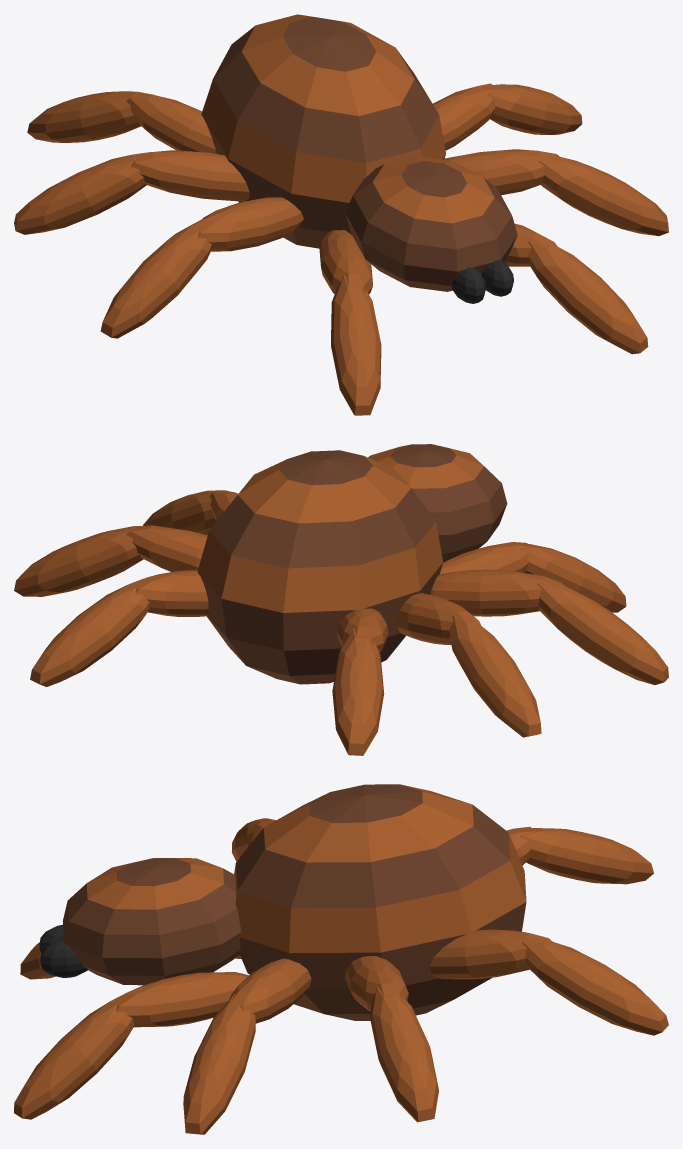
Rendered from Nature_Spider.fbx.
3 renders of one model, top to bottom at view 1: azimuth 30°, elevation 25°; view 2: azimuth 150°, elevation 25°; view 3: azimuth 270°, elevation 25°, orthographic. The views are drawn at different scales.
Parts seen in each view (by area): view 1: polySurface47; view 2: polySurface47; view 3: polySurface47.
Boxes of the visible parts, x1=… form: polySurface47: x1=14, y1=14, x2=668, y2=415; polySurface47: x1=14, y1=444, x2=668, y2=755; polySurface47: x1=14, y1=784, x2=668, y2=1134.
Size of the model in its own units: 250 by 99.85 by 240.
